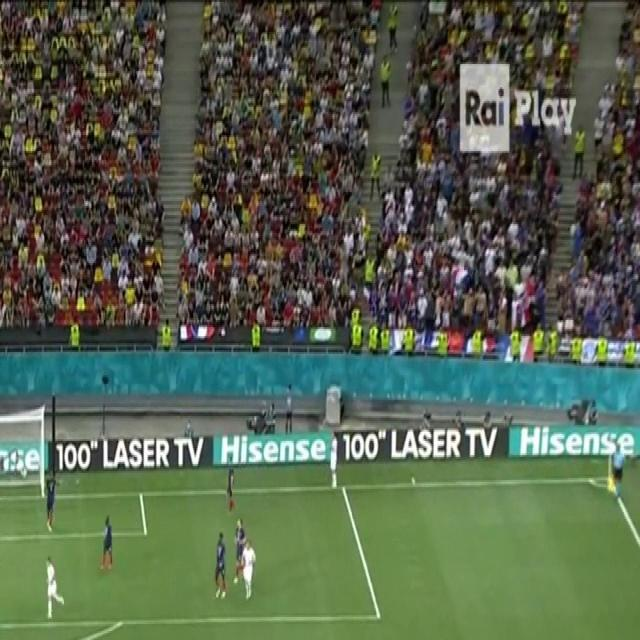player-white: (45, 555, 65, 621), (44, 468, 62, 532), (232, 516, 248, 585), (241, 537, 257, 601), (212, 531, 226, 599), (610, 442, 626, 500), (100, 515, 114, 571), (225, 454, 237, 514)
